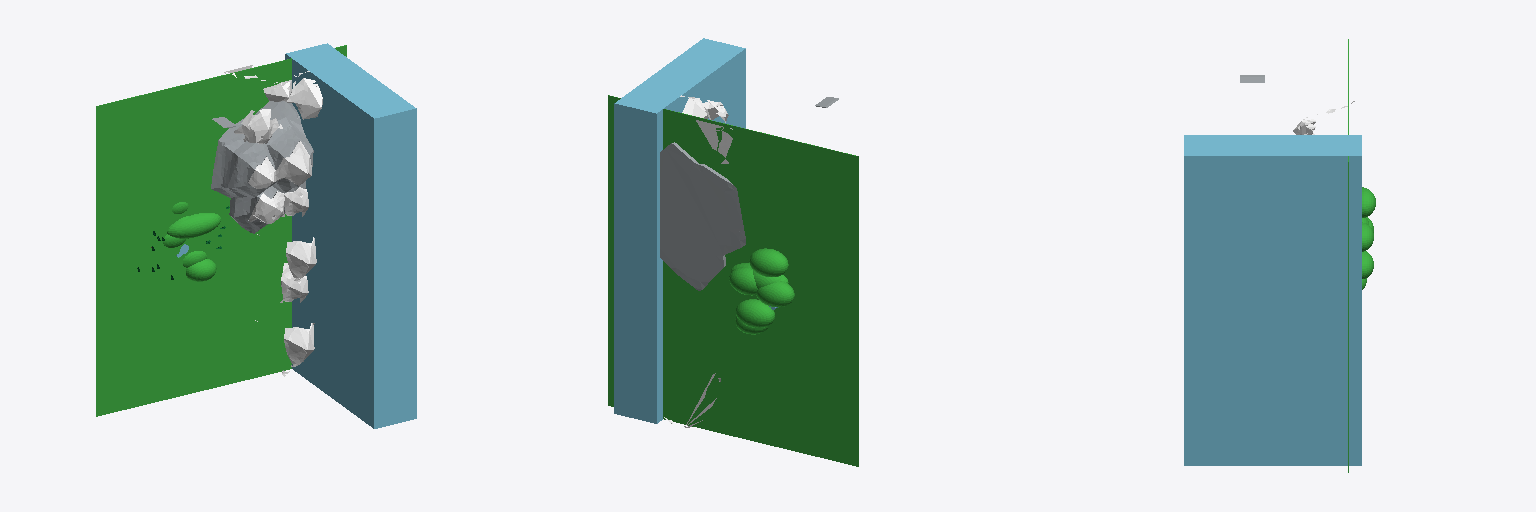
The model's file is tinker.obj.
3 renders of one model, left to right at view 1: azimuth 30°, elevation 25°; view 2: azimuth 150°, elevation 25°; view 3: azimuth 270°, elevation 25°, orthographic.
Visible parts, largest first — view 1: obj_0; view 2: obj_0; view 3: obj_0.
Boxes of the visible parts, box(x1,y1,x2,y2) form: obj_0: box(96, 43, 416, 428); obj_0: box(608, 38, 858, 466); obj_0: box(1184, 39, 1375, 472).
Bounding box in the file's own units: 845 × 998 × 560.